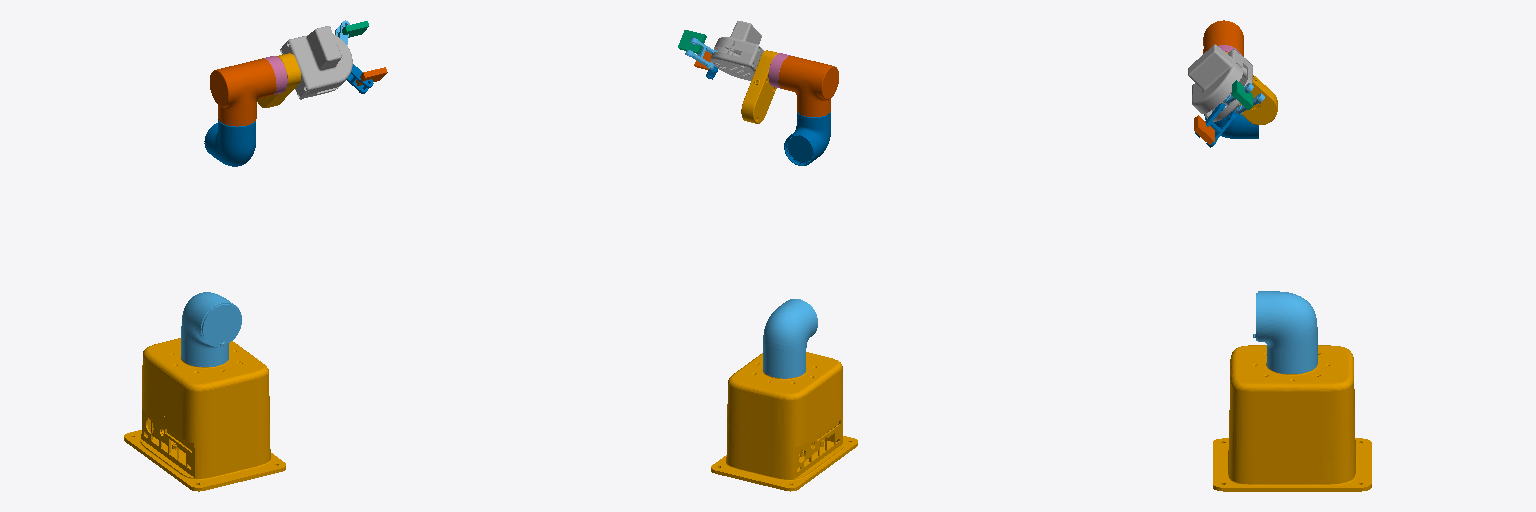
URDF robot description (mycobot_280_jn_camera_gripper_parallel):
<?xml version='1.0' encoding='utf-8'?>
<!-- Parallel-jaw lift variant of the packaged camera/gripper URDF. -->
<robot name="mycobot_280_jn_camera_gripper_parallel">
    <link name="joint1">
        <visual>
            <geometry>
                <mesh filename="../meshes/joint1_jet.stl" />
            </geometry>
            <origin xyz="0.0 0 0 " rpy=" 0 0 3.14159" />
        </visual>
        <inertial>
            <origin xyz="0 0 0" rpy="0 0 0" />
            <mass value="0.420000" />
            <inertia ixx="0.0001512" ixy="0" ixz="0" iyy="0.0001512" iyz="0" izz="0.0001512" />
        </inertial>
    </link>
    <link name="joint2">
        <visual>
            <geometry>
                <mesh filename="../meshes/joint2.stl" />
            </geometry>
            <origin xyz="0.0 0 -0.06096 " rpy=" 0 0 -1.5708" />
        </visual>
        <inertial>
            <origin xyz="0 0 0" rpy="0 0 0" />
            <mass value="0.190000" />
            <inertia ixx="6.84e-05" ixy="0" ixz="0" iyy="6.84e-05" iyz="0" izz="6.84e-05" />
        </inertial>
    </link>
    <link name="joint3">
        <visual>
            <geometry>
                <mesh filename="../meshes/joint3.stl" />
            </geometry>
            <origin xyz="0.0 0 0.03256 " rpy=" 0 -1.5708 0" />
        </visual>
        <inertial>
            <origin xyz="0 0 0" rpy="0 0 0" />
            <mass value="0.150000" />
            <inertia ixx="5.4e-05" ixy="0" ixz="0" iyy="5.4e-05" iyz="0" izz="5.4e-05" />
        </inertial>
    </link>
    <link name="joint4">
        <visual>
            <geometry>
                <mesh filename="../meshes/joint4.stl" />
            </geometry>
            <origin xyz="0.0 0 0.03056 " rpy=" 0 -1.5708 0" />
        </visual>
        <inertial>
            <origin xyz="0 0 0" rpy="0 0 0" />
            <mass value="0.110000" />
            <inertia ixx="3.96e-05" ixy="0" ixz="0" iyy="3.96e-05" iyz="0" izz="3.96e-05" />
        </inertial>
    </link>
    <link name="joint5">
        <visual>
            <geometry>
                <mesh filename="../meshes/joint5.stl" />
            </geometry>
            <origin xyz="0.0 0 -0.03356 " rpy=" 0 -1.5708 1.5708" />
        </visual>
        <inertial>
            <origin xyz="0 0 0" rpy="0 0 0" />
            <mass value="0.090000" />
            <inertia ixx="3.24e-05" ixy="0" ixz="0" iyy="3.24e-05" iyz="0" izz="3.24e-05" />
        </inertial>
    </link>
    <link name="joint6">
        <visual>
            <geometry>
                <mesh filename="../meshes/joint6.stl" />
            </geometry>
            <origin xyz="0 0.00 -0.038 " rpy=" 0 0 0" />
        </visual>
        <collision>
            <geometry>
                <mesh filename="../meshes/joint6_hull.stl" />
            </geometry>
            <origin xyz="0 0.00 -0.038 " rpy=" 0 0 0" />
        </collision>
        <inertial>
            <origin xyz="0 0 0" rpy="0 0 0" />
            <mass value="0.050000" />
            <inertia ixx="1.8e-05" ixy="0" ixz="0" iyy="1.8e-05" iyz="0" izz="1.8e-05" />
        </inertial>
    </link>
    <link name="joint6_flange">
        <visual>
            <geometry>
                <mesh filename="../meshes/joint7.stl" />
            </geometry>
            <origin xyz="0.0 0 -0.012 " rpy=" 0 0 0" />
        </visual>
        <collision>
            <geometry>
                <mesh filename="../meshes/joint7_hull.stl" />
            </geometry>
            <origin xyz="0.0 0 -0.012 " rpy=" 0 0 0" />
        </collision>
        <inertial>
            <origin xyz="0 0 0" rpy="0 0 0" />
            <mass value="0.020000" />
            <inertia ixx="7.2e-06" ixy="0" ixz="0" iyy="7.2e-06" iyz="0" izz="7.2e-06" />
        </inertial>
    </link>
    <joint name="joint2_to_joint1" type="revolute">
        <axis xyz="0 0 1" />
        <limit effort="1000.0" lower="-2.9321" upper="2.9321" velocity="2.0944" />
        <parent link="joint1" />
        <child link="joint2" />
        <origin xyz="0 0 0.15756" rpy="0 0 0" />
    </joint>
    <joint name="joint3_to_joint2" type="revolute">
        <axis xyz="0 0 1" />
        <limit effort="1000.0" lower="-2.4434" upper="2.4434" velocity="2.0944" />
        <parent link="joint2" />
        <child link="joint3" />
        <origin xyz="0 0 -0.001" rpy="0 1.5708 -1.5708" />
    </joint>
    <joint name="joint4_to_joint3" type="revolute">
        <axis xyz=" 0 0 1" />
        <limit effort="1000.0" lower="-2.6179" upper="2.6179" velocity="2.0944" />
        <parent link="joint3" />
        <child link="joint4" />
        <origin xyz="  -0.1104 0 0   " rpy="0 0 0" />
    </joint>
    <joint name="joint5_to_joint4" type="revolute">
        <axis xyz=" 0 0 1" />
        <limit effort="1000.0" lower="-2.6179" upper="2.6179" velocity="2.0944" />
        <parent link="joint4" />
        <child link="joint5" />
        <origin xyz="-0.096 0 0.06462" rpy="0 0 -1.5708" />
    </joint>
    <joint name="joint6_to_joint5" type="revolute">
        <axis xyz="0 0 1" />
        <limit effort="1000.0" lower="-2.7052" upper="2.7925" velocity="2.0944" />
        <parent link="joint5" />
        <child link="joint6" />
        <origin xyz="0 -0.07318 0" rpy="1.5708 -1.5708 0" />
    </joint>
    <joint name="joint6output_to_joint6" type="revolute">
        <axis xyz="0 0 1" />
        <limit effort="1000.0" lower="-3.14159" upper="3.14159" velocity="2.0944" />
        <parent link="joint6" />
        <child link="joint6_flange" />
        <origin xyz="0 0.0456 0" rpy="-1.5708 0 0" />
    </joint>
    <joint name="joint6output_to_gripper_base" type="fixed">
        <parent link="tool_mount" />
        <child link="gripper_base" />
        <origin xyz="0 0 0.051" rpy="1.579 0 0" />
    </joint>
    <link name="gripper_base">
        <visual>
            <geometry>
                <mesh filename="../meshes/gripper_base.stl" />
            </geometry>
            <origin xyz="0.0 0 -0.012 " rpy=" 0 0 0" />
        </visual>
        <collision>
            <geometry>
                <mesh filename="../meshes/gripper_base_hull.stl" />
            </geometry>
            <origin xyz="0.0 0 -0.012 " rpy=" 0 0 0" />
        </collision>
        <inertial>
            <origin xyz="0 0 0" rpy="0 0 0" />
            <mass value="0.062000" />
            <inertia ixx="2.232e-05" ixy="0" ixz="0" iyy="2.232e-05" iyz="0" izz="2.232e-05" />
        </inertial>
    </link>
    <link name="gripper_left1">
        <inertial>
            <origin xyz="0 0 0" rpy="0 0 0" />
            <mass value="0.008000" />
            <inertia ixx="2.88e-06" ixy="0" ixz="0" iyy="2.88e-06" iyz="0" izz="2.88e-06" />
        </inertial>
    </link>
    <link name="gripper_left2">
        <visual>
            <geometry>
                <mesh filename="../meshes/gripper_left2.stl" />
            </geometry>
            <origin xyz="0.005 -0.0195 -0.012 " rpy=" 0 0 0" />
        </visual>
        <inertial>
            <origin xyz="0 0 0" rpy="0 0 0" />
            <mass value="0.008000" />
            <inertia ixx="2.88e-06" ixy="0" ixz="0" iyy="2.88e-06" iyz="0" izz="2.88e-06" />
        </inertial>
    </link>
    <link name="gripper_left3">
        <inertial>
            <origin xyz="0 0 0" rpy="0 0 0" />
            <mass value="0.008000" />
            <inertia ixx="2.88e-06" ixy="0" ixz="0" iyy="2.88e-06" iyz="0" izz="2.88e-06" />
        </inertial>
        <visual>
            <origin xyz="-0.013800 0.043400 0" rpy="0 0 0" />
            <geometry>
                <box size="0.006000 0.026000 0.022000" />
            </geometry>
        </visual>
        <collision>
            <origin xyz="-0.013800 0.043400 0" rpy="0 0 0" />
            <geometry>
                <box size="0.006000 0.026000 0.022000" />
            </geometry>
        </collision>
    </link>
    <link name="gripper_right1">
        <inertial>
            <origin xyz="0 0 0" rpy="0 0 0" />
            <mass value="0.008000" />
            <inertia ixx="2.88e-06" ixy="0" ixz="0" iyy="2.88e-06" iyz="0" izz="2.88e-06" />
        </inertial>
    </link>
    <link name="gripper_right2">
        <visual>
            <geometry>
                <mesh filename="../meshes/gripper_right2.stl" />
            </geometry>
            <origin xyz="-0.005 -0.0195 -0.012 " rpy=" 0 0 0" />
        </visual>
        <inertial>
            <origin xyz="0 0 0" rpy="0 0 0" />
            <mass value="0.008000" />
            <inertia ixx="2.88e-06" ixy="0" ixz="0" iyy="2.88e-06" iyz="0" izz="2.88e-06" />
        </inertial>
    </link>
    <link name="gripper_right3">
        <inertial>
            <origin xyz="0 0 0" rpy="0 0 0" />
            <mass value="0.008000" />
            <inertia ixx="2.88e-06" ixy="0" ixz="0" iyy="2.88e-06" iyz="0" izz="2.88e-06" />
        </inertial>
        <visual>
            <origin xyz="0.013800 0.043400 0" rpy="0 0 0" />
            <geometry>
                <box size="0.006000 0.026000 0.022000" />
            </geometry>
        </visual>
        <collision>
            <origin xyz="0.013800 0.043400 0" rpy="0 0 0" />
            <geometry>
                <box size="0.006000 0.026000 0.022000" />
            </geometry>
        </collision>
    </link>
    <joint name="gripper_controller" type="prismatic">
        <parent link="gripper_base" />
        <child link="gripper_left3" />
        <origin xyz="-0.012 0.005 0" rpy="0 0 0" />
        <axis xyz="1 0 0" />
        <limit lower="0.0" upper="0.0131" effort="30.0" velocity="1.0" />
    </joint>
    <joint name="gripper_base_to_gripper_left2" type="fixed">
        <parent link="gripper_base" />
        <child link="gripper_left2" />
        <origin xyz="-0.005 0.027 0" rpy="0 0 0" />
    </joint>
    <joint name="gripper_left3_to_gripper_left1" type="fixed">
        <parent link="gripper_left3" />
        <child link="gripper_left1" />
        <origin xyz="-0.027 0.016 0" rpy="0 0 0" />
    </joint>
    <joint name="gripper_base_to_gripper_right3" type="prismatic">
        <parent link="gripper_base" />
        <child link="gripper_right3" />
        <origin xyz="0.012 0.005 0" rpy="0 0 0" />
        <axis xyz="1 0 0" />
        <limit lower="-0.0131" upper="0.0" effort="30.0" velocity="1.0" />
    </joint>
    <joint name="gripper_base_to_gripper_right2" type="fixed">
        <parent link="gripper_base" />
        <child link="gripper_right2" />
        <origin xyz="0.005 0.027 0" rpy="0 0 0" />
    </joint>
    <joint name="gripper_right3_to_gripper_right1" type="fixed">
        <parent link="gripper_right3" />
        <child link="gripper_right1" />
        <origin xyz="0.027 0.016 0" rpy="0 0 0" />
    </joint>
    <link name="tool_mount"><inertial><origin xyz="0 0 0" rpy="0 0 0" /><mass value="0.000100" /><inertia ixx="3.6e-08" ixy="0" ixz="0" iyy="3.6e-08" iyz="0" izz="3.6e-08" /></inertial></link>
    <joint name="joint6_flange_to_tool_mount" type="fixed">
        <parent link="joint6_flange" />
        <child link="tool_mount" />
        <origin xyz="0 0 0" rpy="0 0 0.785398" />
    </joint>
    <link name="camera_mount"><inertial><origin xyz="0 0 0" rpy="0 0 0" /><mass value="0.000100" /><inertia ixx="3.6e-08" ixy="0" ixz="0" iyy="3.6e-08" iyz="0" izz="3.6e-08" /></inertial></link>
    <joint name="joint6_flange_to_camera_mount" type="fixed">
        <parent link="tool_mount" />
        <child link="camera_mount" />
        <origin xyz="0 0 0" rpy="0 0 1.5708" />
    </joint>
    <link name="camera_flange">
        <inertial>
            <origin xyz="0.024 -0.008 0.0" rpy="0 0 0" />
            <mass value="0.060000" />
            <inertia ixx="2.16e-05" ixy="0" ixz="0" iyy="2.16e-05" iyz="0" izz="2.16e-05" />
        </inertial>
        <visual>
            <origin xyz="0.024 -0.008 0.0" rpy="0 3.14159 0" />
            <geometry>
                <mesh filename="../meshes/camera_flange.stl" />
            </geometry>
        </visual>
        <collision>
            <origin xyz="0.024 -0.008 0.0" rpy="0 3.14159 0" />
            <geometry>
                <mesh filename="../meshes/camera_flange_hull.stl" />
            </geometry>
        </collision>
    </link>
    <joint name="camera_mount_to_camera_flange" type="fixed">
        <parent link="camera_mount" />
        <child link="camera_flange" />
        <origin xyz="0 0 0.01" rpy="1.579 0 0" />
    </joint>
    <link name="camera_link"><inertial><origin xyz="0 0 0" rpy="0 0 0" /><mass value="0.000100" /><inertia ixx="3.6e-08" ixy="0" ixz="0" iyy="3.6e-08" iyz="0" izz="3.6e-08" /></inertial></link>
    <joint name="camera_mount_to_camera_link" type="fixed">
        <parent link="camera_mount" />
        <child link="camera_link" />
        <origin xyz="0.0415 0 0.0181" rpy="0 0 0" />
    </joint>
    <link name="tcp"><inertial><origin xyz="0 0 0" rpy="0 0 0" /><mass value="0.000100" /><inertia ixx="3.6e-08" ixy="0" ixz="0" iyy="3.6e-08" iyz="0" izz="3.6e-08" /></inertial></link>
    <joint name="joint6_flange_to_tcp" type="fixed">
        <parent link="tool_mount" />
        <child link="tcp" />
        <origin xyz="0 0 0.096" rpy="0 0 0" />
    </joint>
</robot>

--- Render facts (derived) ---
Views: 3 orthographic renders of the robot side by side, from view 1: azimuth 30°, elevation 25°; view 2: azimuth 150°, elevation 25°; view 3: azimuth 270°, elevation 25°.
Robot: mycobot_280_jn_camera_gripper_parallel — 19 links, 18 joints (6 revolute, 2 prismatic, 10 fixed); root link joint1; default pose: every joint at zero.
Visible links, largest first — view 1: joint1, joint2, gripper_base, joint6, joint5, camera_flange; view 2: joint1, joint2, joint6, gripper_base, joint5, camera_flange; view 3: joint1, joint2, gripper_base, joint6, camera_flange, joint5.
Link boxes in pixels (left/top/right/bottom): joint1: left=124, top=338, right=285, bottom=491; joint2: left=181, top=292, right=241, bottom=366; gripper_base: left=280, top=26, right=352, bottom=99; joint6: left=210, top=58, right=276, bottom=126; joint5: left=204, top=119, right=255, bottom=166; camera_flange: left=257, top=53, right=300, bottom=107; joint1: left=711, top=352, right=857, bottom=491; joint2: left=763, top=299, right=817, bottom=378; joint6: left=778, top=56, right=838, bottom=116; gripper_base: left=710, top=21, right=763, bottom=80; joint5: left=784, top=112, right=830, bottom=165; camera_flange: left=741, top=50, right=777, bottom=123; joint1: left=1213, top=345, right=1371, bottom=491; joint2: left=1253, top=291, right=1317, bottom=373; gripper_base: left=1188, top=44, right=1252, bottom=121; joint6: left=1203, top=20, right=1243, bottom=56; camera_flange: left=1226, top=52, right=1277, bottom=124; joint5: left=1204, top=110, right=1258, bottom=138.
Size in the robot's own frame: 0.2131 by 0.173 by 0.4804 metres.
Meshes: 11 distinct files referenced, 9 mesh visuals loaded (9 binary STL); not drawn: 2 (reference not matched to a file when rendering).
